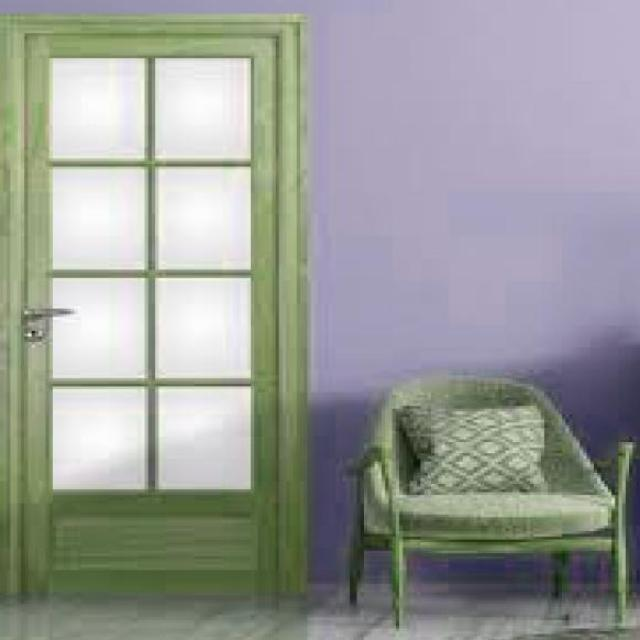door: (12, 15, 290, 609)
